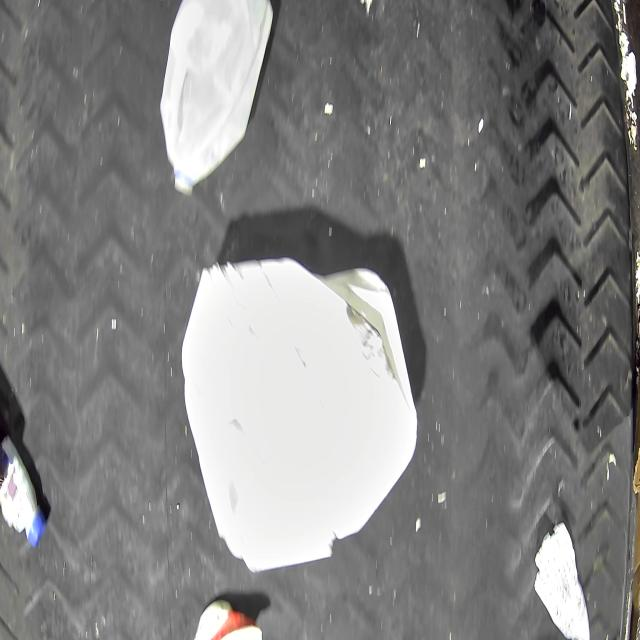milk_jug: (160, 0, 276, 197)
